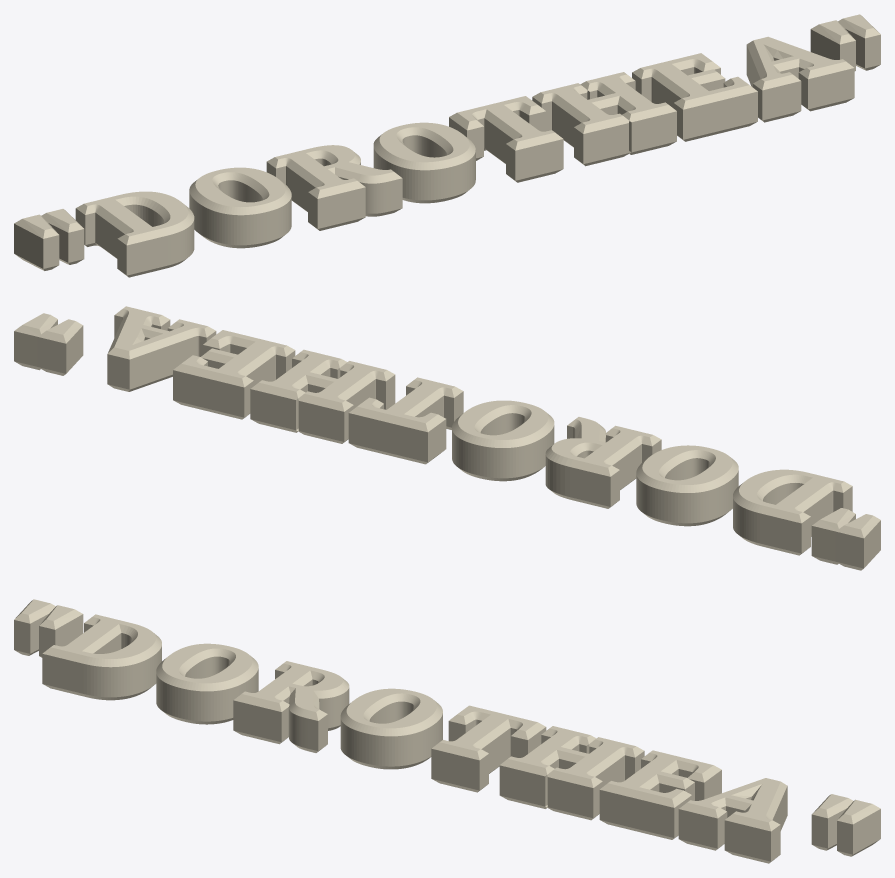
The model's file is onomam.glb.
3 renders of one model, top to bottom at view 1: azimuth 30°, elevation 25°; view 2: azimuth 150°, elevation 25°; view 3: azimuth 330°, elevation 25°, orthographic.
Visible parts, largest first — view 1: Mesh_Mesh_head_geo.001_lambert2SG.001; view 2: Mesh_Mesh_head_geo.001_lambert2SG.001; view 3: Mesh_Mesh_head_geo.001_lambert2SG.001.
Boxes of the visible parts, left/top/right/bottom form: Mesh_Mesh_head_geo.001_lambert2SG.001: left=14, top=14, right=880, bottom=277; Mesh_Mesh_head_geo.001_lambert2SG.001: left=14, top=306, right=880, bottom=570; Mesh_Mesh_head_geo.001_lambert2SG.001: left=14, top=599, right=880, bottom=863.
Bounding box in the file's own units: 0.2161 × 0.01 × 0.0231.
